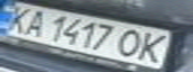1: (39, 12, 69, 43), (75, 19, 96, 49)
4: (57, 16, 81, 47)
7: (93, 21, 118, 53)
A: (15, 7, 54, 37)
K: (133, 30, 175, 64), (0, 2, 39, 34)
O: (112, 27, 151, 60)
